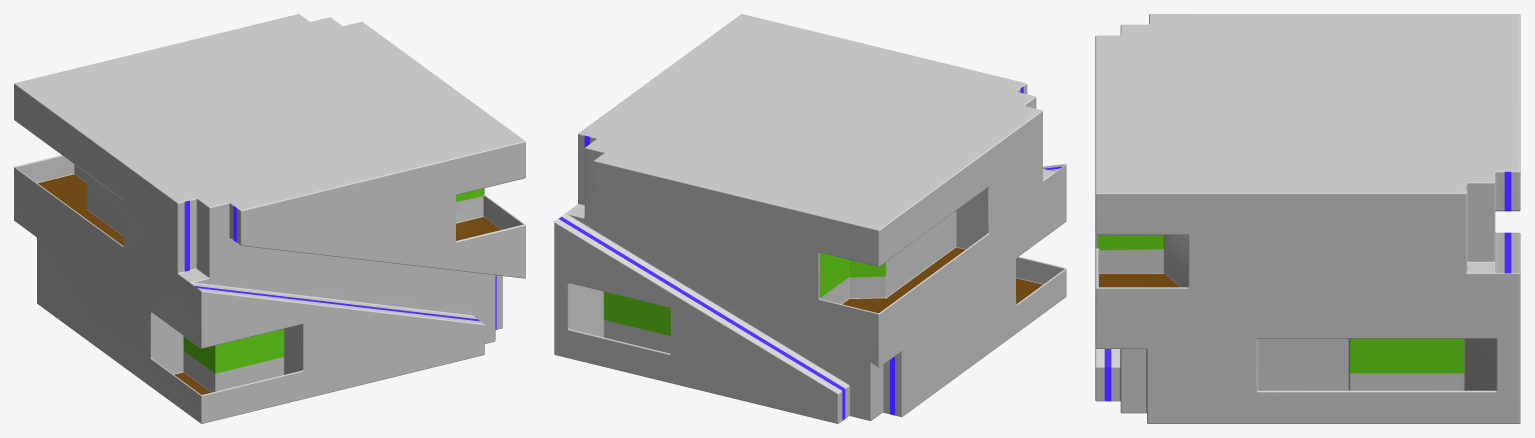
File: SM_B_i3_roof.fbx
3 views of the same model, side by side, from view 1: azimuth 30°, elevation 25°; view 2: azimuth 150°, elevation 25°; view 3: azimuth 270°, elevation 25° (orthographic). The views are drawn at different scales.
Visible parts, largest first — view 1: Bil3_Base_floor4; view 2: Bil3_Base_floor4; view 3: Bil3_Base_floor4.
Boxes of the visible parts, x1,y1,x2,y2 form: Bil3_Base_floor4: (14, 14, 525, 423); Bil3_Base_floor4: (554, 14, 1066, 423); Bil3_Base_floor4: (1095, 14, 1520, 423).
Bounding box in the file's own units: 1717 × 1030 × 1717.
